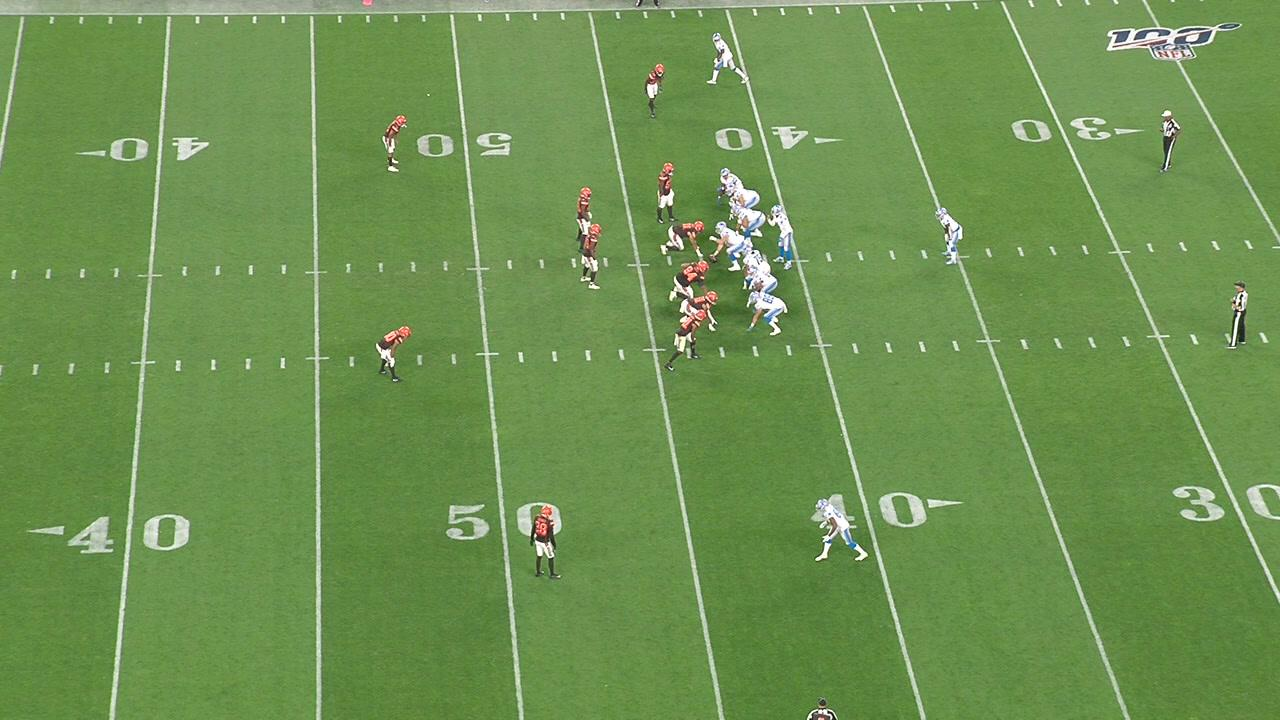player: (806, 497, 871, 566), (702, 30, 750, 89), (530, 502, 564, 582), (663, 309, 707, 370), (374, 321, 413, 383), (708, 219, 753, 272), (929, 206, 967, 264), (660, 218, 706, 263), (579, 222, 608, 293), (746, 292, 788, 338), (766, 205, 794, 273), (379, 112, 408, 176), (678, 287, 719, 331), (654, 159, 680, 227), (670, 259, 708, 304), (641, 61, 669, 120), (574, 185, 596, 253), (723, 181, 760, 221), (732, 203, 766, 246), (742, 243, 771, 280), (746, 265, 778, 294), (719, 167, 745, 202)
ref: (1154, 107, 1183, 179), (1227, 282, 1253, 351), (806, 695, 837, 720)
